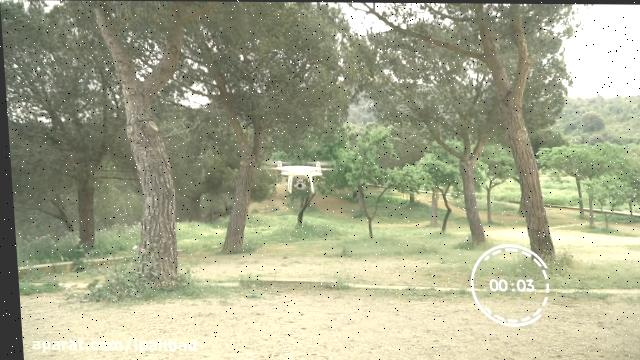drone: (263, 157, 336, 194)
